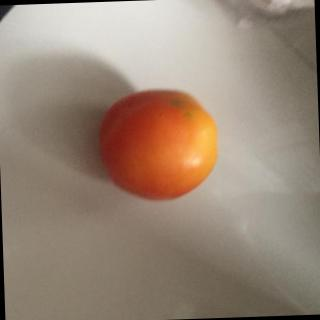Tomat: (95, 84, 227, 203)
